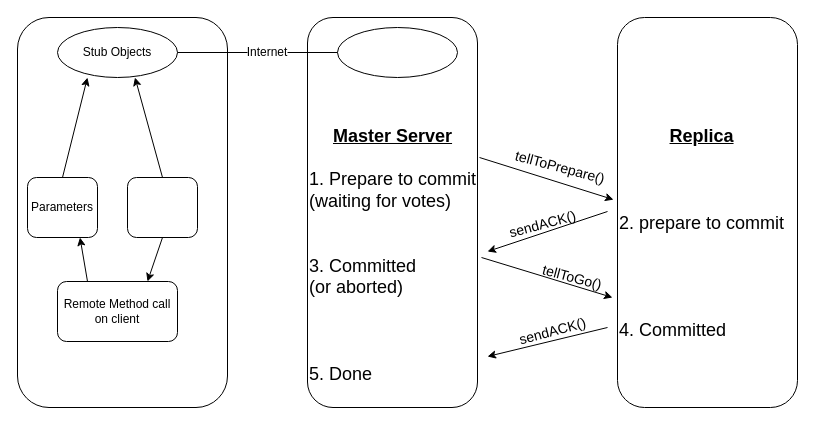
Some shapes in this 815 by 425 pixel diagram are drawn without their labels. The shapes that lost their labels are listed below. From the top down, each one's centre as x and y in pixels, then its label:
At (x=397, y=52): "Skeleton Objects".
At (x=162, y=207): "Return Value".
